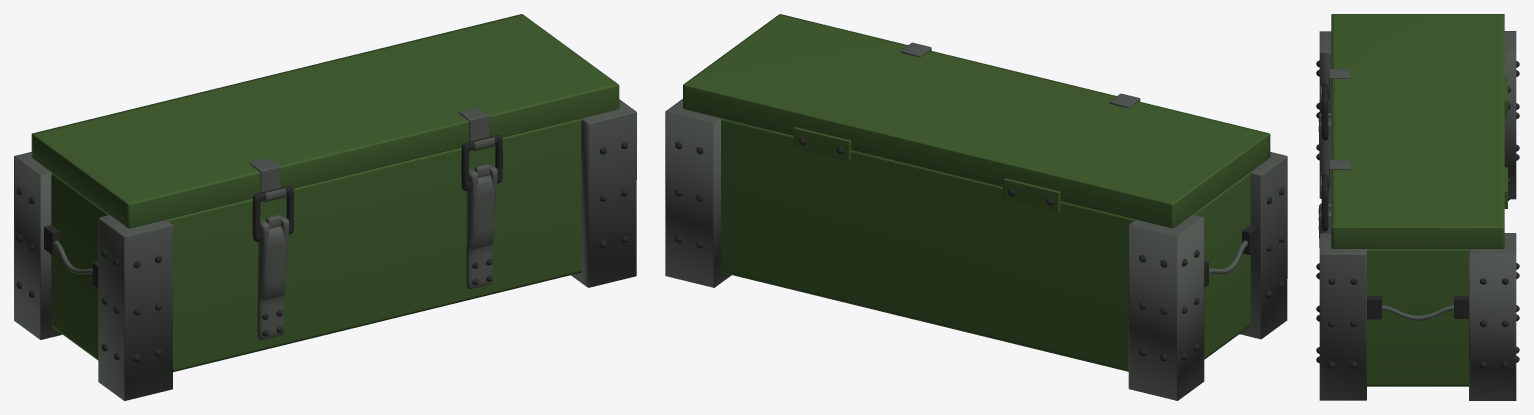
The model's file is ammoBox.fbx.
3 renders of one model, left to right at view 1: azimuth 30°, elevation 25°; view 2: azimuth 150°, elevation 25°; view 3: azimuth 270°, elevation 25°, orthographic. The views are drawn at different scales.
Parts seen in each view (by area): view 1: Ammo_Box; view 2: Ammo_Box; view 3: Ammo_Box.
Part boxes in pixels (x1,y1,x2,y2): Ammo_Box: (14,14,636,400); Ammo_Box: (665,14,1287,400); Ammo_Box: (1316,14,1519,400).
Size of the model in its own units: 157 by 55.54 by 59.88.
